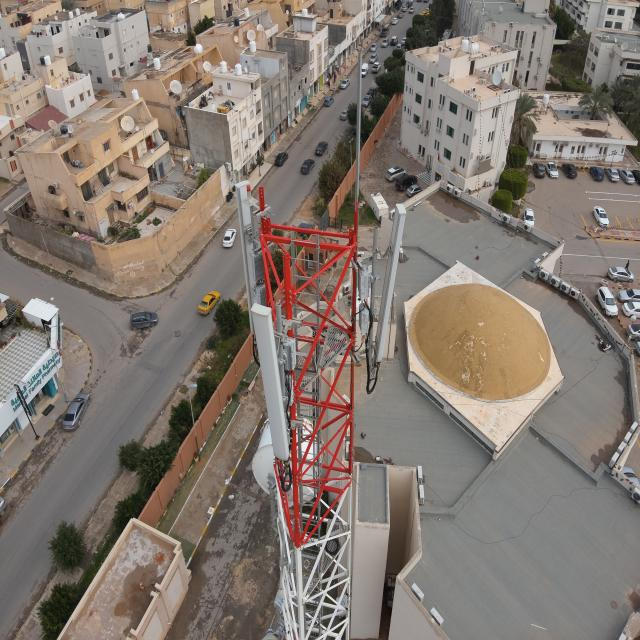Ground Based: (230, 42, 406, 640)
